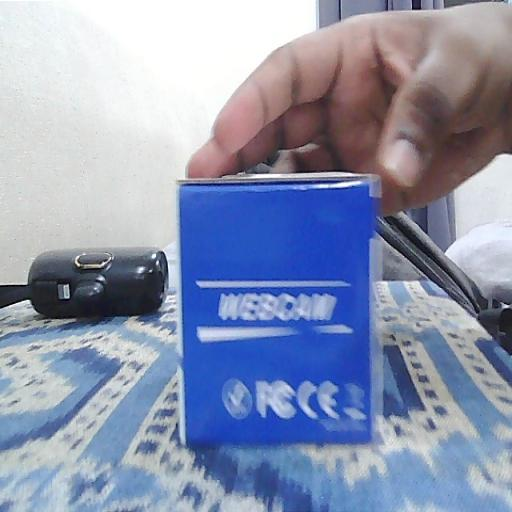webcam_box: (178, 172, 383, 449)
